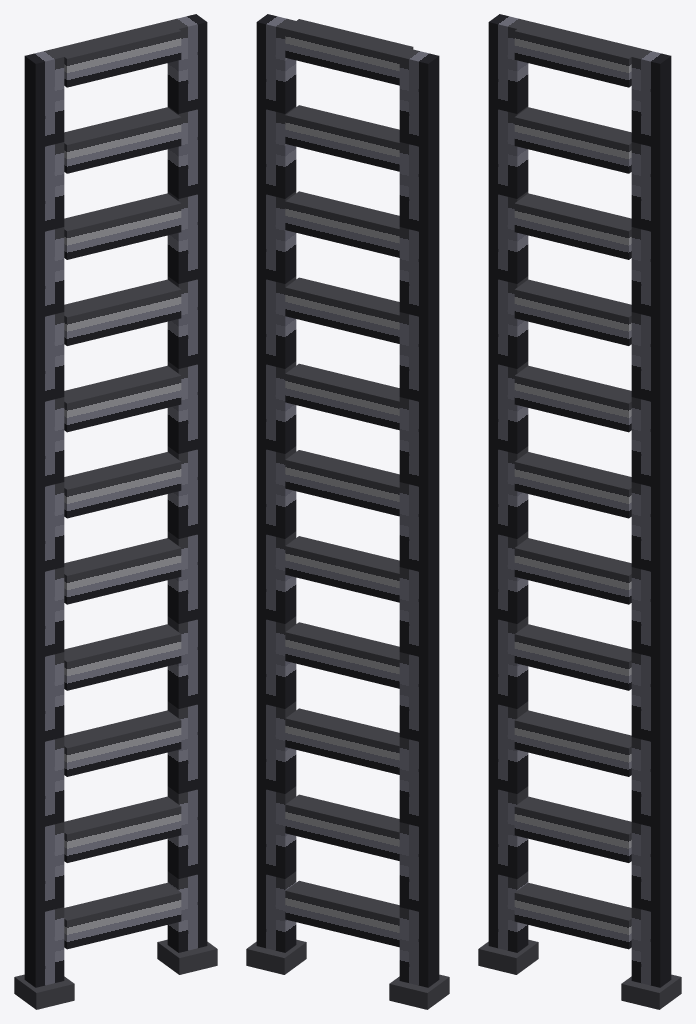
Rendered from CMU3DLadderThroughUp1.glb.
3 views of the same model, side by side, from view 1: azimuth 30°, elevation 25°; view 2: azimuth 150°, elevation 25°; view 3: azimuth 330°, elevation 25° (orthographic).
Parts seen in each view (by area): view 1: physical rung 11, physical rung 5, physical rung 2, physical rung 4, physical rung 6, physical rung 9, physical rung 3, physical rung 8, physical rung 1, physical rung 10, physical rung 7, left rail segment 11 (+23 smaller); view 2: physical rung 11, physical rung 4, physical rung 5, physical rung 8, physical rung 1, physical rung 2, physical rung 3, physical rung 7, physical rung 10, physical rung 9, physical rung 6, left rail segment 11 (+23 smaller); view 3: physical rung 11, physical rung 5, physical rung 2, physical rung 4, physical rung 6, physical rung 9, physical rung 3, physical rung 8, physical rung 1, physical rung 10, physical rung 7, right rail segment 11 (+23 smaller).
Part boxes in pixels (x1,y1,x2,y2): physical rung 11: (54,21,181,87); physical rung 5: (64,538,181,604); physical rung 2: (64,796,181,862); physical rung 4: (64,624,181,690); physical rung 6: (64,452,181,518); physical rung 9: (64,193,181,259); physical rung 3: (64,710,181,776); physical rung 8: (64,279,181,345); physical rung 1: (64,882,181,949); physical rung 10: (64,107,181,173); physical rung 7: (64,365,181,432); left rail segment 11: (24,49,64,148); physical rung 11: (285,19,413,85); physical rung 4: (285,622,399,688); physical rung 5: (285,536,399,602); physical rung 8: (285,277,399,343); physical rung 1: (285,880,399,947); physical rung 2: (285,794,399,860); physical rung 3: (285,708,399,774); physical rung 7: (285,363,399,430); physical rung 10: (285,105,399,171); physical rung 9: (285,191,399,257); physical rung 6: (285,450,399,516); left rail segment 11: (399,49,439,148); physical rung 11: (514,21,641,87); physical rung 5: (514,538,631,604); physical rung 2: (514,796,631,862); physical rung 4: (514,624,631,690); physical rung 6: (514,452,631,518); physical rung 9: (514,193,631,259); physical rung 3: (514,710,631,776); physical rung 8: (514,279,631,345); physical rung 1: (514,882,631,949); physical rung 10: (514,107,631,173); physical rung 7: (514,365,631,432); right rail segment 11: (631,49,671,148).
Size of the model in its own units: 0.5938 by 2.95 by 0.125.
4 materials, 3 textured.
